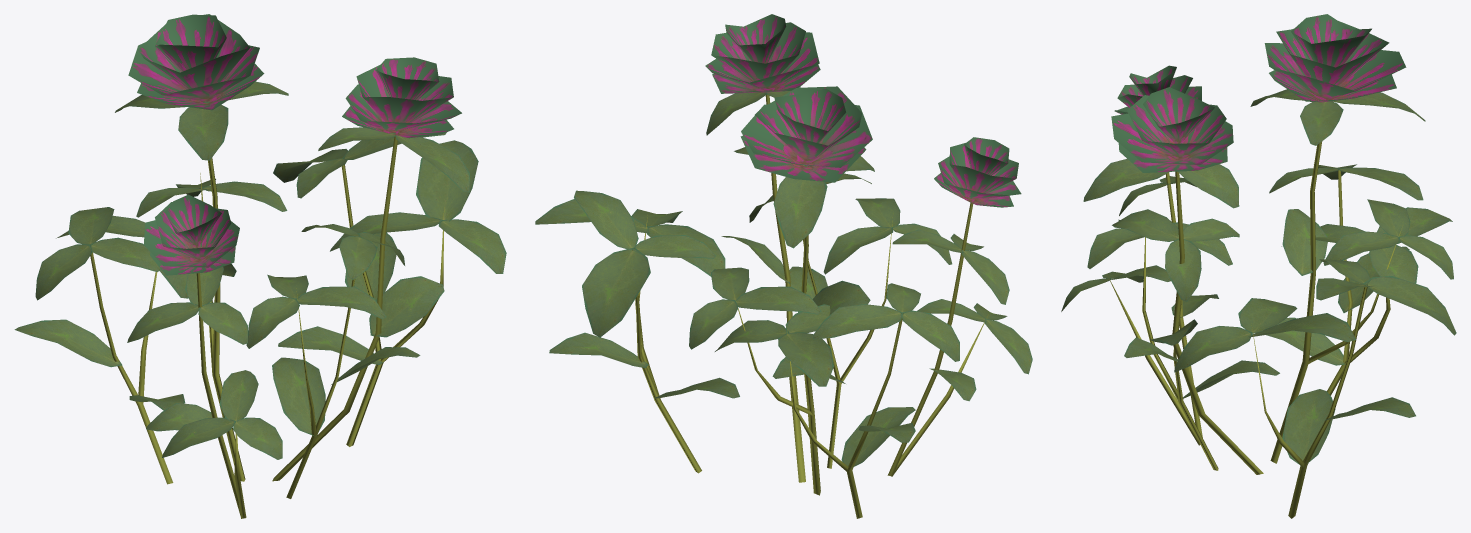
File: botaniqflower.glb
3 renders of one model, left to right at view 1: azimuth 30°, elevation 25°; view 2: azimuth 150°, elevation 25°; view 3: azimuth 270°, elevation 25°, orthographic. The views are drawn at different scales.
Visible parts, largest first — view 1: Weed_Red-clover_B_spring-summer; view 2: Weed_Red-clover_B_spring-summer; view 3: Weed_Red-clover_B_spring-summer.
Boxes of the visible parts, x1=… form: Weed_Red-clover_B_spring-summer: x1=14, y1=14, x2=506, y2=518; Weed_Red-clover_B_spring-summer: x1=535, y1=14, x2=1032, y2=518; Weed_Red-clover_B_spring-summer: x1=1061, y1=14, x2=1456, y2=518.
Size of the model in its own units: 0.1679 by 0.1619 by 0.1354.
2 materials, 2 textured.
